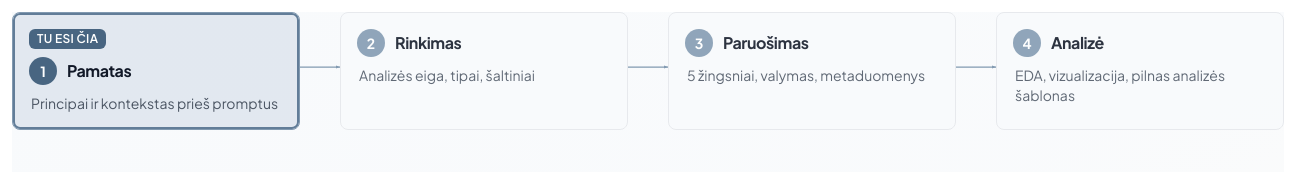
Scenario: M7PathMapDiagram / Block (sk. 71) › has no shell step nav (Shell = Ne) but Block cards are selectable
expect the text "Tu esi čia" is shown: met, box [29,29,106,49]
Click the button "3 Paruošimas 5 žingsniai, valymas, metaduomenys" at (812, 71), box [668,12,956,130]
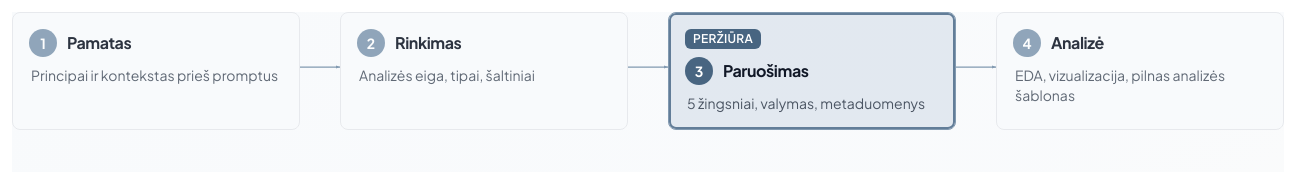
expect the text "Peržiūra" is shown: met, box [685,29,761,49]
